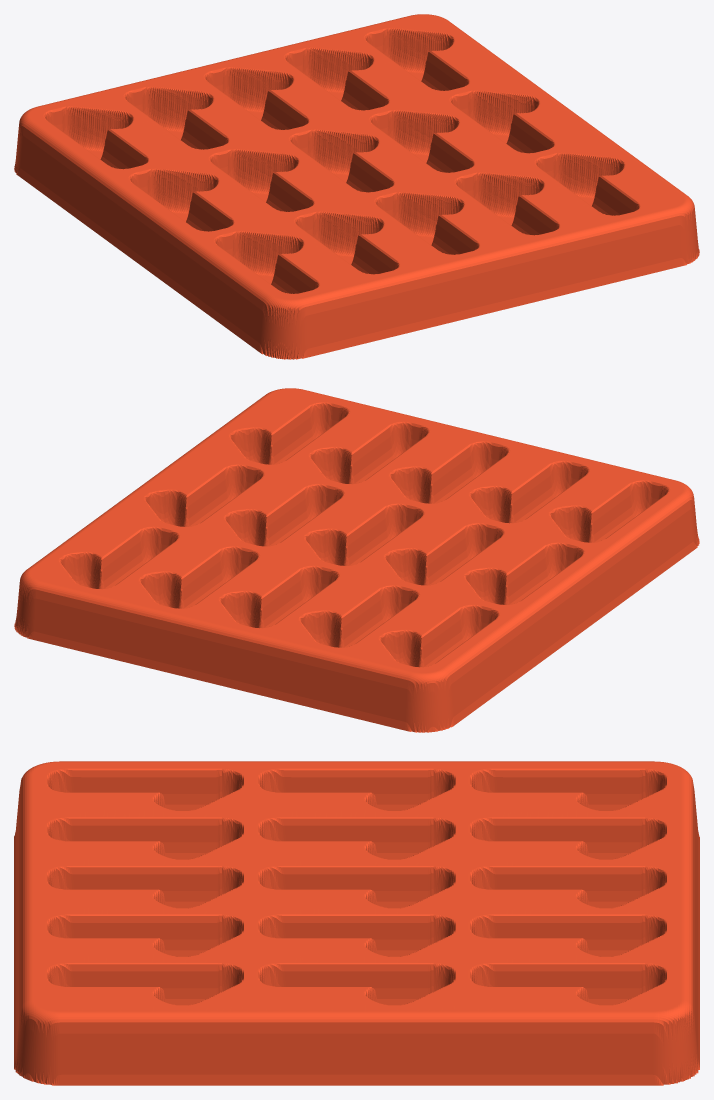
Rendered from mold.glb.
The picture shows the model from 3 angles, top to bottom: view 1: azimuth 30°, elevation 25°; view 2: azimuth 150°, elevation 25°; view 3: azimuth 270°, elevation 25°; orthographic projection. The views are drawn at different scales.
Parts seen in each view (by area): view 1: geometry_0; view 2: geometry_0; view 3: geometry_0.
Boxes of the visible parts, x1,y1,x2,y2 form: geometry_0: (14,14,699,359); geometry_0: (14,388,699,732); geometry_0: (14,761,699,1085).
Bounding box in the file's own units: 0.1242 × 0.0145 × 0.1361.
